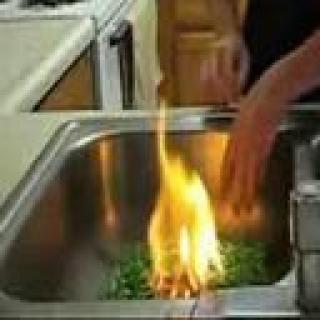fire: (144, 135, 223, 291)
